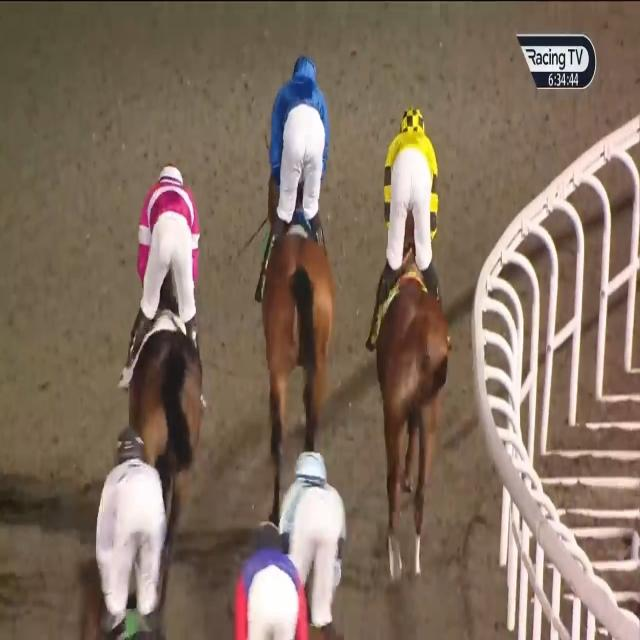horses-racing: (369, 97, 450, 599), (253, 52, 338, 467), (129, 148, 210, 490), (273, 447, 348, 640), (95, 431, 162, 640), (237, 513, 306, 640)
